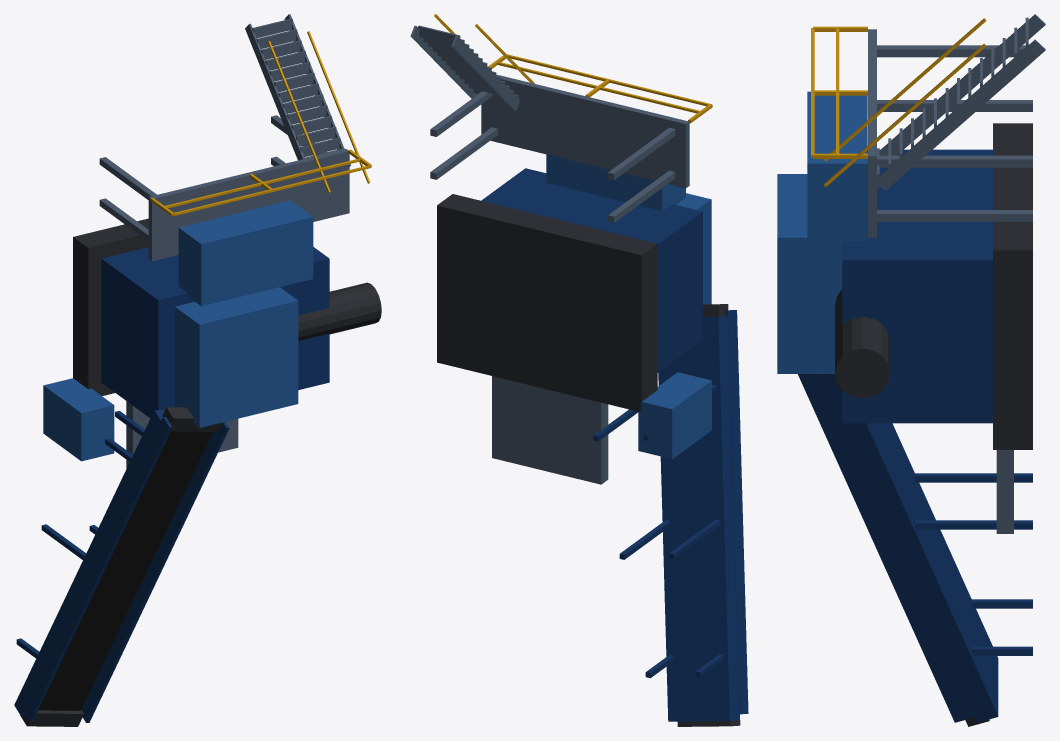
The model's file is baler.obj.
3 views of the same model, side by side, from view 1: azimuth 30°, elevation 25°; view 2: azimuth 150°, elevation 25°; view 3: azimuth 270°, elevation 25° (orthographic). The views are drawn at different scales.
Visible parts, largest first — view 1: baler_body.006, baler_press_head.006, baler_infeed_belt.006, baler_chute.006, baler_platform_deck.006, baler_base.006, baler_cabinet.006, baler_infeed_side.012, baler_infeed_side.013, baler_infeed_frame.006, baler_ram.006, baler_stairs_stringer.013 (+7 smaller); view 2: baler_base.006, baler_infeed_frame.006, baler_platform_deck.006, baler_body.006, baler_outfeed_table.006, baler_cabinet.006, baler_infeed_side.012, baler_chute.006, baler_press_head.006, baler_stairs_stringer.013, baler_platform_leg.024, baler_platform_leg.025 (+5 smaller); view 3: baler_body.006, baler_infeed_frame.006, baler_base.006, baler_press_head.006, baler_chute.006, baler_infeed_side.013, baler_ram.006, baler_stairs_stringer.012, baler_stairs_stringer.013, baler_platform_leg.026, baler_platform_deck.006, baler_platform_leg.027 (+11 smaller).
Boxes of the visible parts, x1,y1,x2,y2 form: baler_body.006: [101, 247, 329, 418]; baler_press_head.006: [175, 287, 298, 427]; baler_infeed_belt.006: [38, 431, 212, 710]; baler_chute.006: [178, 200, 313, 306]; baler_platform_deck.006: [148, 149, 349, 261]; baler_base.006: [73, 218, 148, 395]; baler_cabinet.006: [43, 378, 114, 461]; baler_infeed_side.012: [23, 417, 172, 722]; baler_infeed_side.013: [81, 422, 229, 722]; baler_infeed_frame.006: [14, 410, 164, 716]; baler_ram.006: [298, 282, 381, 340]; baler_stairs_stringer.013: [245, 23, 304, 160]; baler_base.006: [437, 194, 657, 412]; baler_infeed_frame.006: [658, 316, 739, 721]; baler_platform_deck.006: [481, 74, 689, 188]; baler_body.006: [481, 168, 702, 372]; baler_outfeed_table.006: [492, 376, 608, 484]; baler_cabinet.006: [638, 372, 711, 459]; baler_infeed_side.012: [724, 310, 748, 714]; baler_chute.006: [546, 154, 685, 211]; baler_press_head.006: [676, 193, 711, 304]; baler_stairs_stringer.013: [451, 35, 519, 111]; baler_platform_leg.024: [608, 170, 675, 222]; baler_platform_leg.025: [608, 127, 675, 180]; baler_body.006: [842, 149, 992, 423]; baler_infeed_frame.006: [820, 374, 998, 722]; baler_base.006: [993, 123, 1032, 449]; baler_press_head.006: [777, 174, 842, 373]; baler_chute.006: [807, 91, 867, 245]; baler_infeed_side.013: [798, 374, 974, 722]; baler_ram.006: [835, 289, 889, 398]; baler_stairs_stringer.012: [875, 39, 1045, 190]; baler_stairs_stringer.013: [879, 14, 1045, 155]; baler_platform_leg.026: [877, 210, 1032, 221]; baler_platform_deck.006: [868, 29, 876, 237]; baler_platform_leg.027: [877, 155, 1032, 167].
Bounding box in the file's own units: 9.33 × 18.48 × 5.35.
